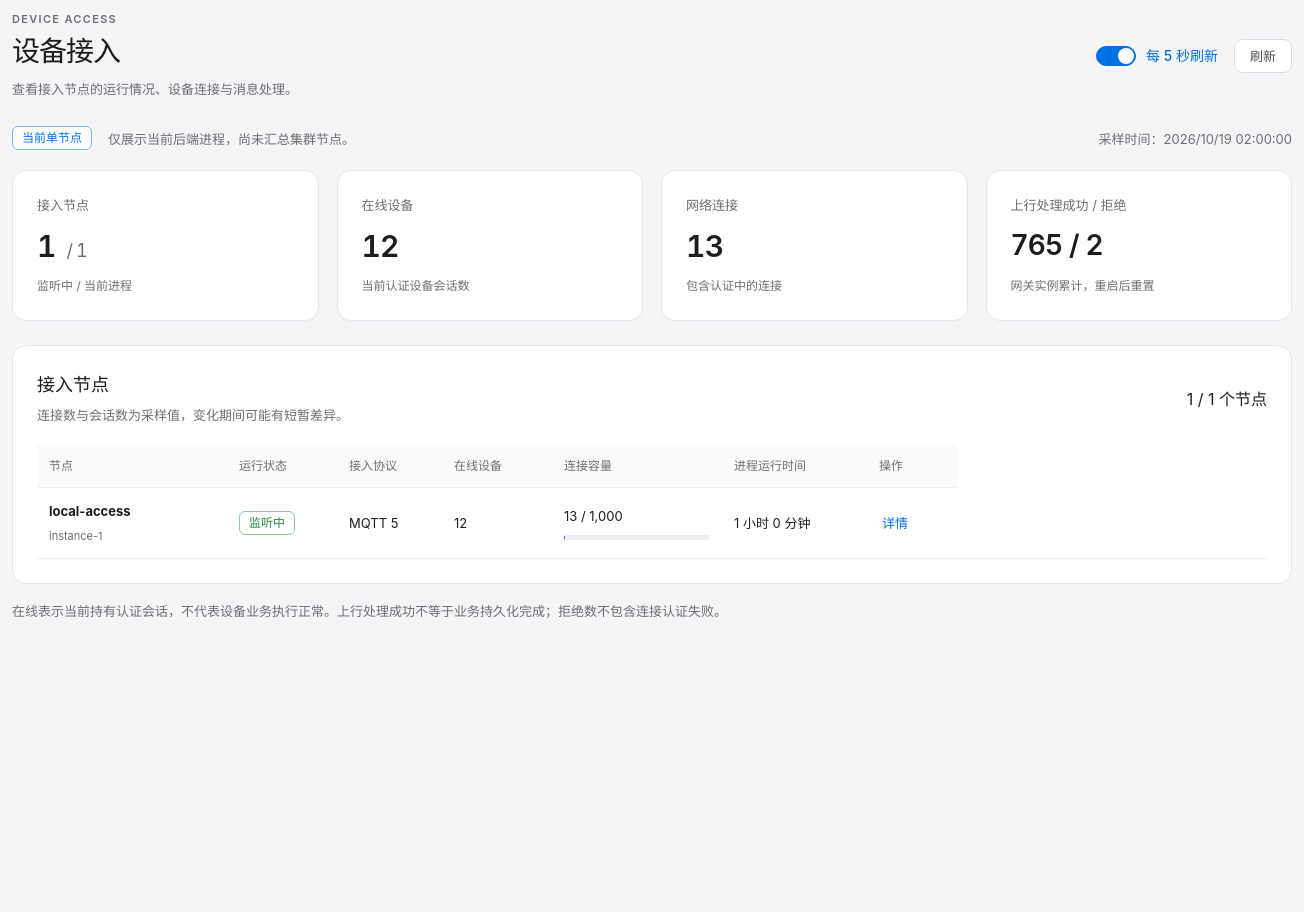
Test: retains the last sample and warns when a refresh fails
Click the button "刷新" at (1263, 56), box [1234,39,1292,73]
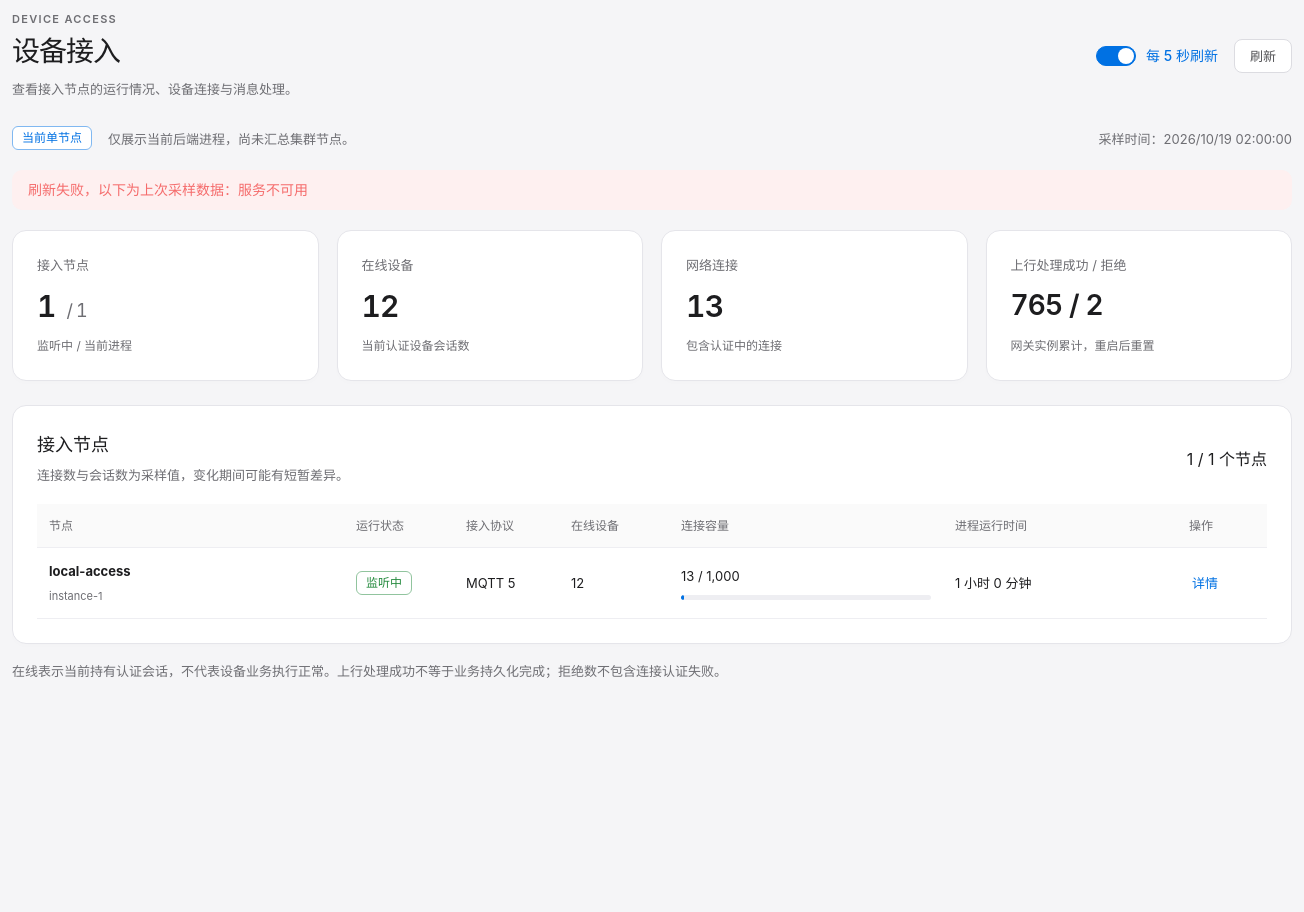
Expected: the text "765 / 2" is shown, [1010,288,1103,322]
Result: the text "上次采样数据" is shown at [28,182,308,198]
Result: the text "服务不可用" is shown at [28,182,308,198]
